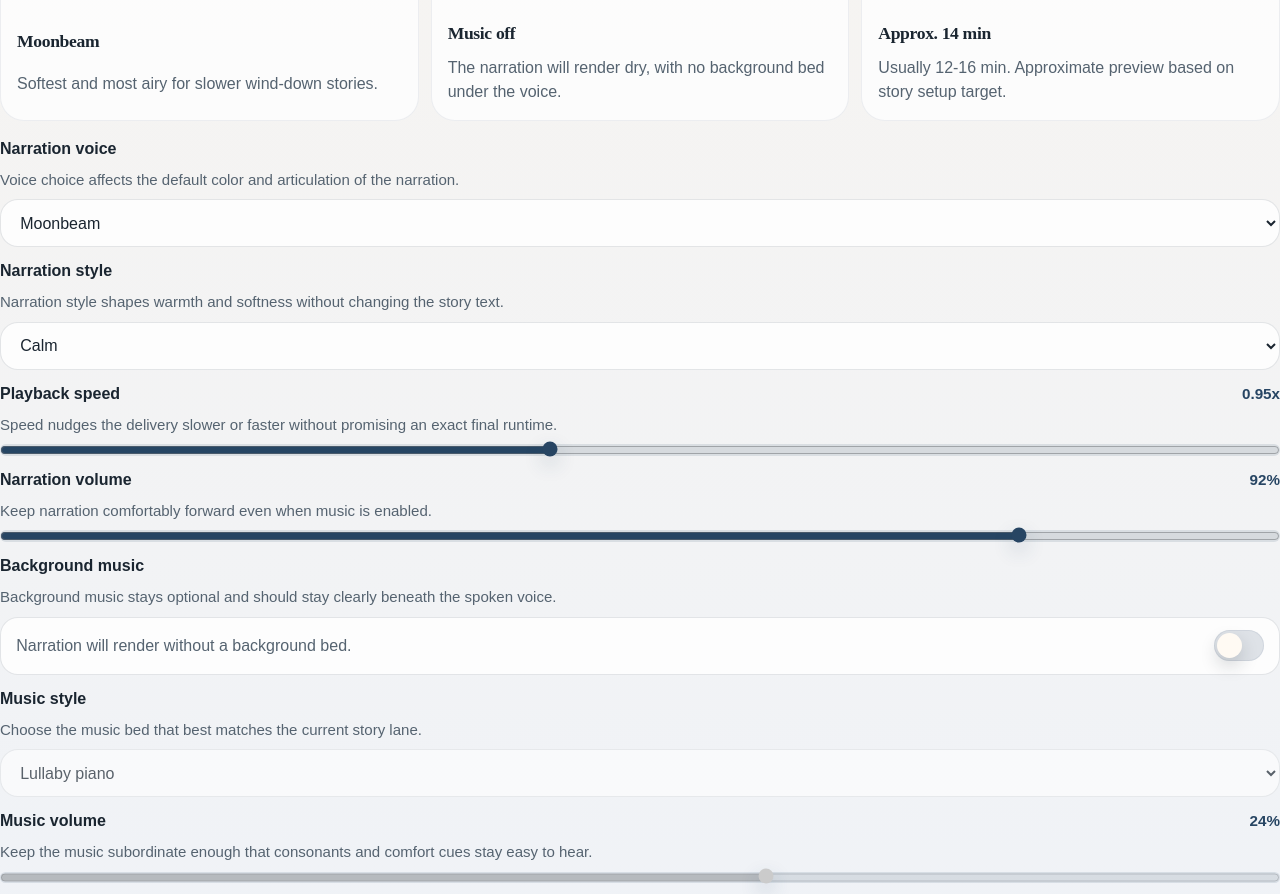
Test: AudioSettingsStage › updates the approximate estimate immediately when playback speed changes
This screenshot has width=1280, height=894.
(page scrolled)
Set the slider labelled "Playback speed" to "0.85" at x=189, y=450, box x1=0 y1=444 x2=1279 y2=456
(page scrolled)
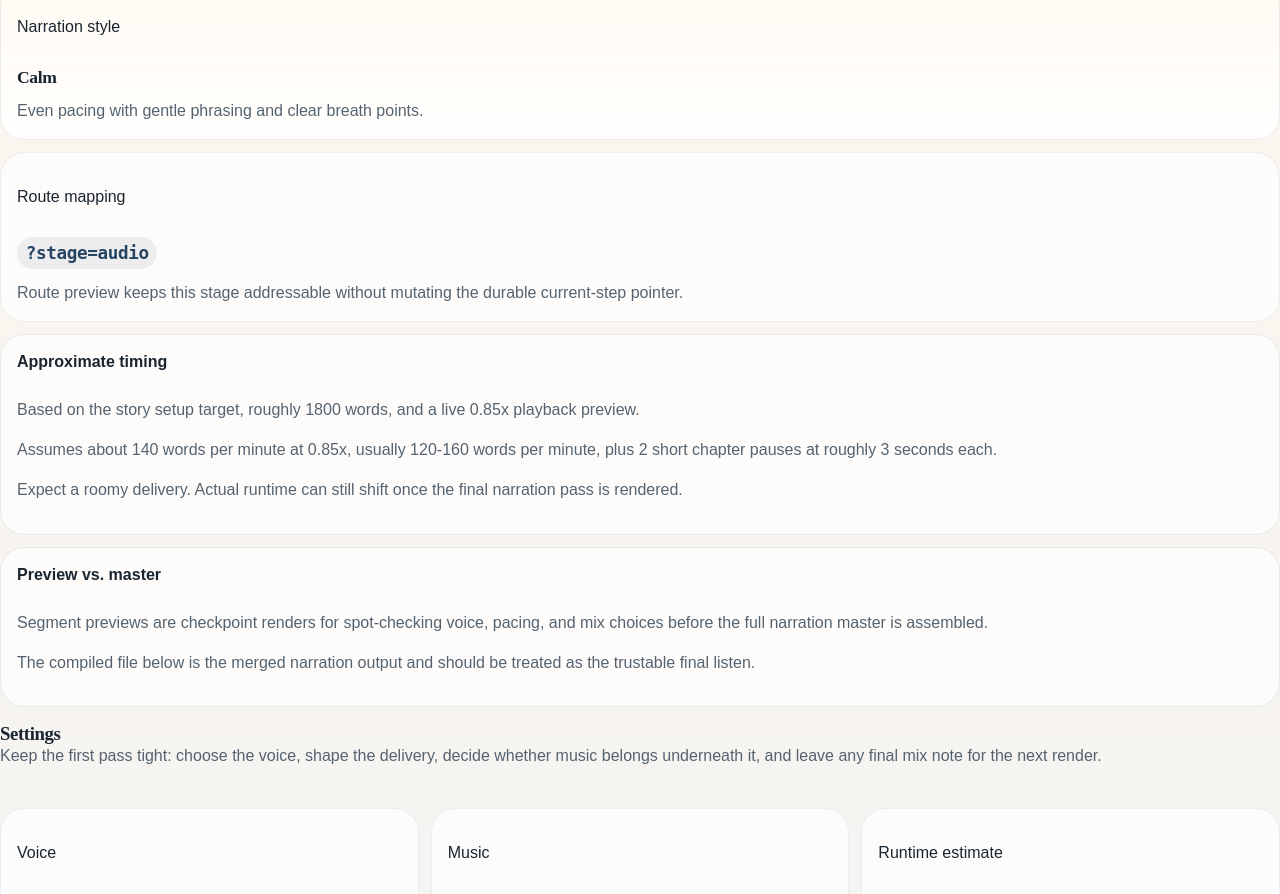
Check: the text "Assumes about 140 words per minute at 0.85x, usually 120-160 words per minute, plus 2 short chapter pauses at roughly 3 " is shown, box x1=17 y1=441 x2=997 y2=458
